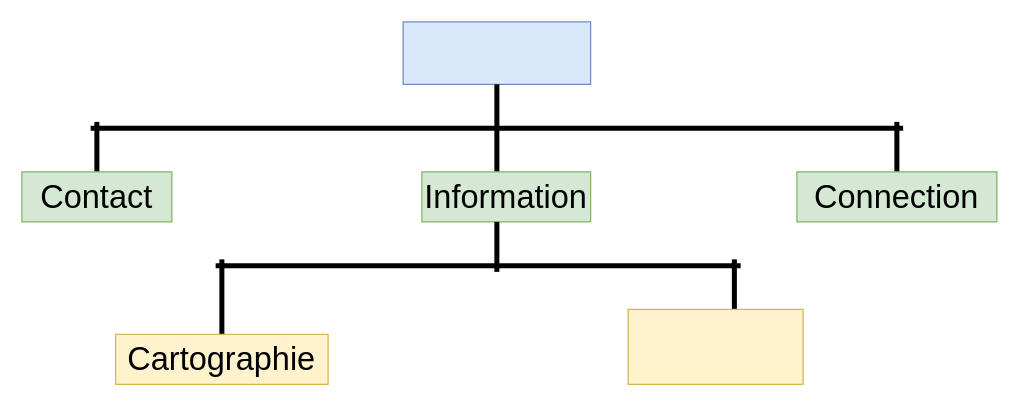
This 1019x406 diagram has some shape labels left out. The box of each missing label's shape, as (x1, y1, x2, y2) in pixels:
Acceuil: (402, 21, 591, 84)
Article: (627, 308, 803, 384)
